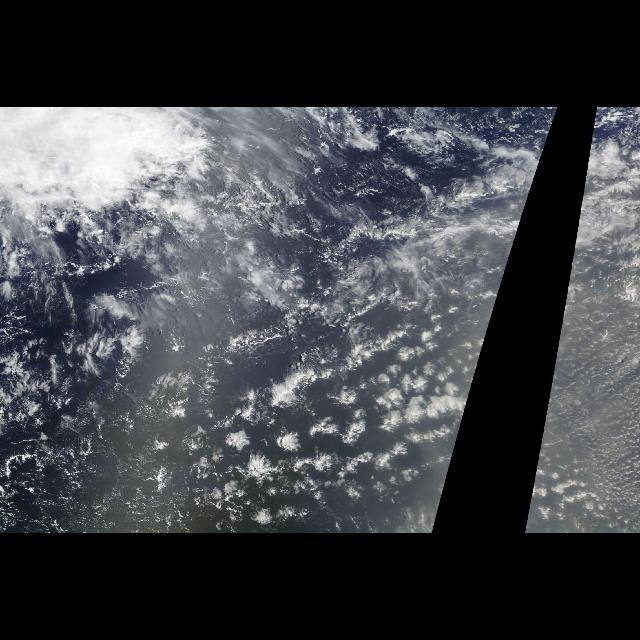Flower: (162, 306, 496, 532)
Sugar: (545, 311, 639, 534)
